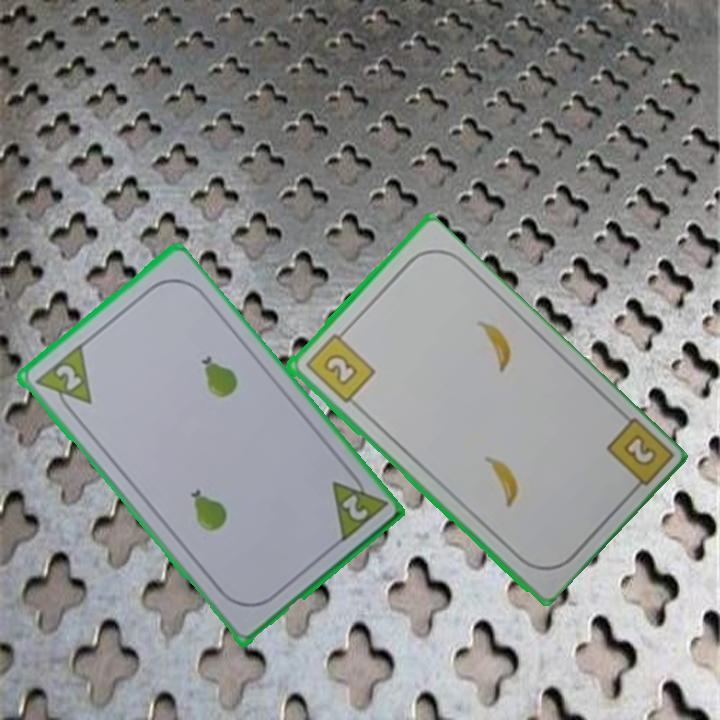2b: (301, 325, 377, 406), (619, 430, 660, 469)
2p: (30, 341, 95, 420), (327, 465, 388, 546)
